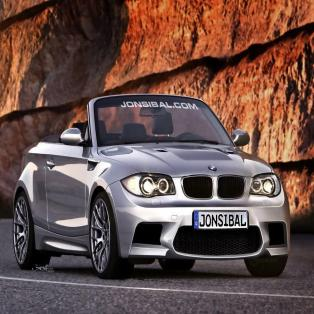Auto: (12, 91, 292, 281)
